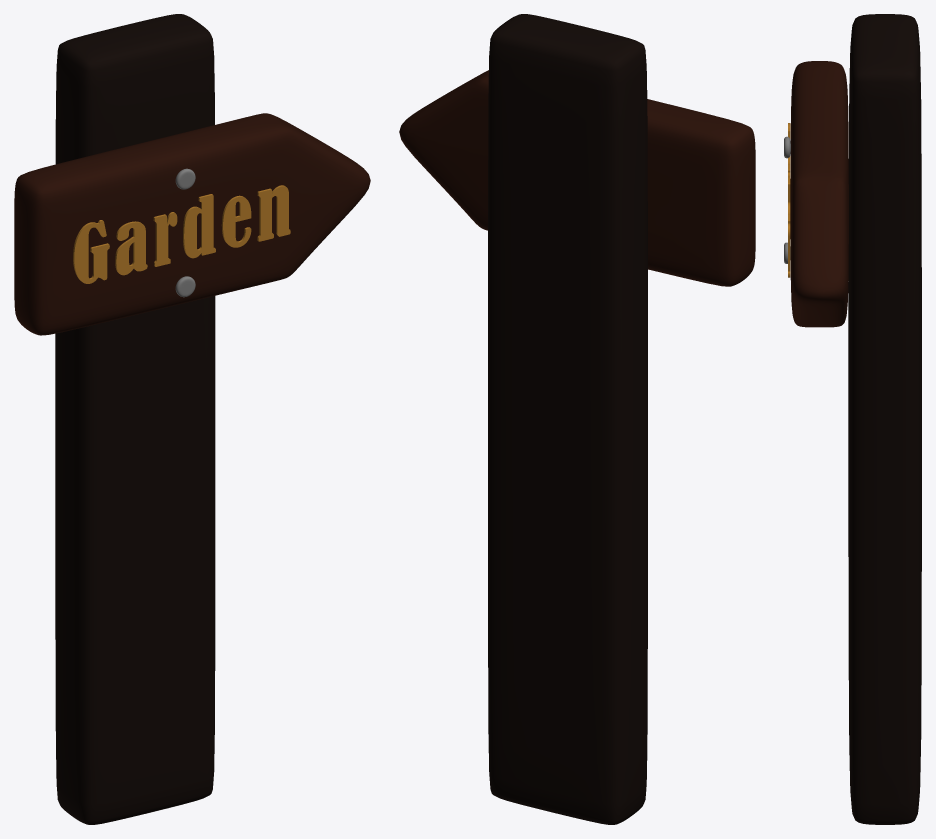
File: Sign_Garden_Empty.obj
3 views of the same model, side by side, from view 1: azimuth 30°, elevation 25°; view 2: azimuth 150°, elevation 25°; view 3: azimuth 270°, elevation 25° (orthographic).
Visible parts, largest first — view 1: Sign_Garden_Empty_Post, Sign_Garden_Empty_Arrow, Sign_Garden_Empty_Text, Sign_Garden_Empty_Nails; view 2: Sign_Garden_Empty_Post, Sign_Garden_Empty_Arrow; view 3: Sign_Garden_Empty_Post, Sign_Garden_Empty_Arrow, Sign_Garden_Empty_Text.
Part boxes in pixels (x1,y1,x2,y2): Sign_Garden_Empty_Post: (55, 14, 215, 824); Sign_Garden_Empty_Arrow: (14, 113, 370, 335); Sign_Garden_Empty_Text: (73, 185, 290, 283); Sign_Garden_Empty_Nails: (175, 168, 195, 297); Sign_Garden_Empty_Post: (488, 14, 647, 824); Sign_Garden_Empty_Arrow: (399, 70, 755, 286); Sign_Garden_Empty_Post: (848, 14, 921, 824); Sign_Garden_Empty_Arrow: (790, 61, 848, 327); Sign_Garden_Empty_Text: (788, 123, 790, 277).
Bounding box in the file's own units: 1.63 × 3.5 × 0.5764.
